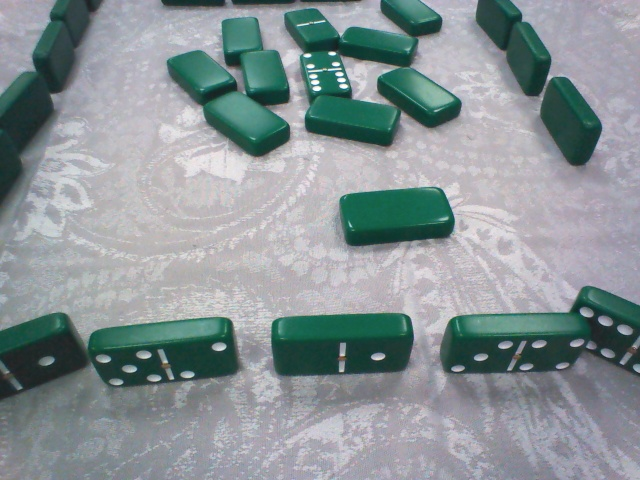A: (330, 182, 463, 244), (200, 84, 296, 157), (302, 87, 403, 150), (374, 58, 460, 129), (338, 20, 421, 69), (163, 44, 231, 100), (239, 47, 294, 104), (374, 1, 450, 37), (214, 11, 269, 57)
B: (293, 40, 360, 103), (279, 1, 339, 48)
C: (1, 73, 54, 149), (28, 20, 82, 85), (39, 1, 96, 40), (1, 127, 22, 215)
D: (535, 74, 605, 178), (491, 23, 554, 96), (472, 1, 529, 52)
E: (258, 308, 418, 379), (436, 311, 589, 382), (85, 322, 241, 388), (1, 309, 80, 401), (571, 281, 640, 381)
